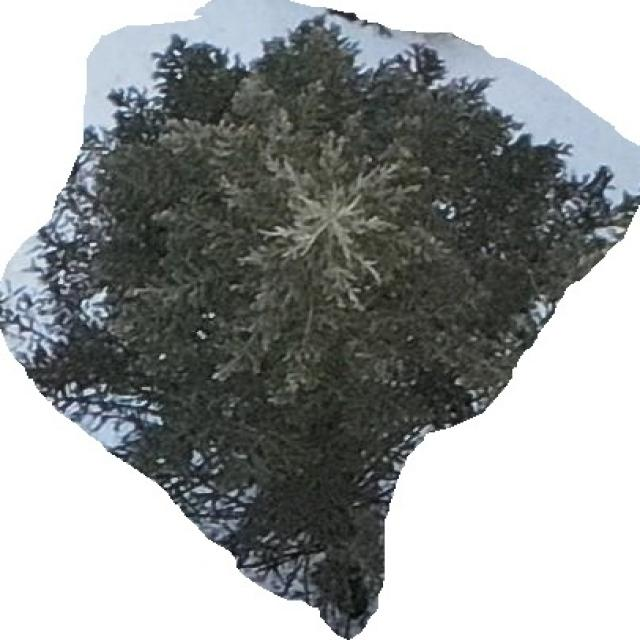spruce: (0, 14, 638, 639)
